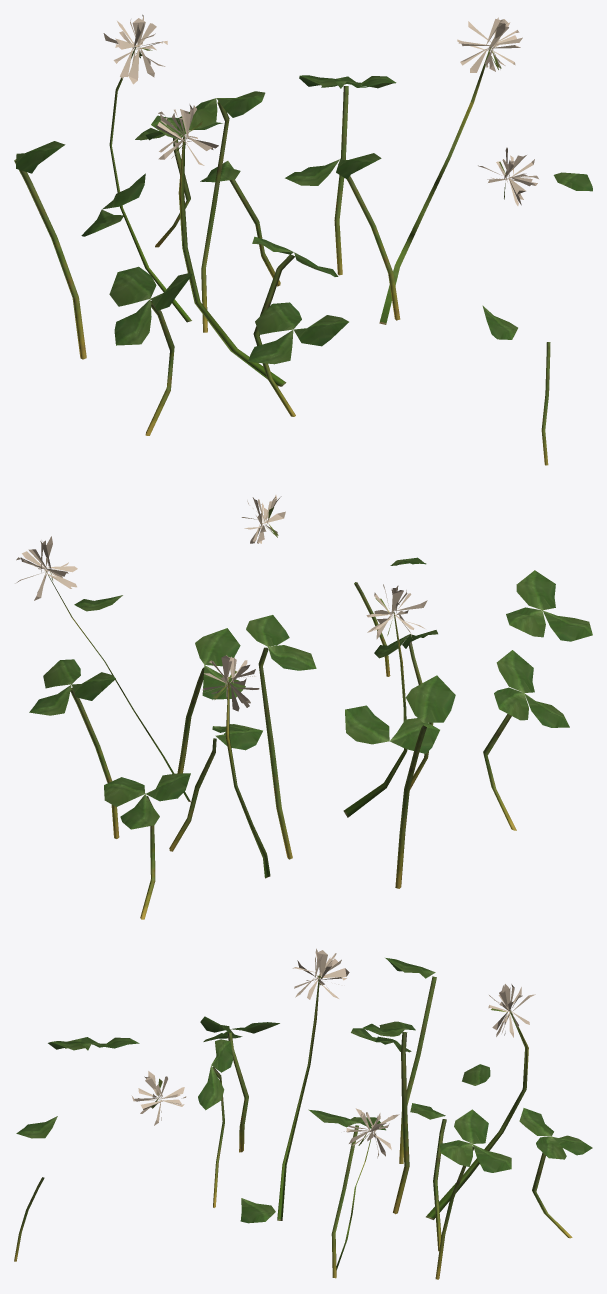
The model's file is clover_flower_001_lod1.gltf.
The picture shows the model from 3 angles, top to bottom: view 1: azimuth 30°, elevation 25°; view 2: azimuth 150°, elevation 25°; view 3: azimuth 270°, elevation 25°; orthographic projection. The views are drawn at different scales.
Parts seen in each view (by area): view 1: clover flower.001; view 2: clover flower.001; view 3: clover flower.001.
Part boxes in pixels (x1,y1,x2,y2): clover flower.001: (14,14,592,465); clover flower.001: (15,495,592,919); clover flower.001: (14,948,592,1279).
Size of the model in its own units: 0.187 by 0.1002 by 0.2202.
Materials: 1 (1 with a texture image).
